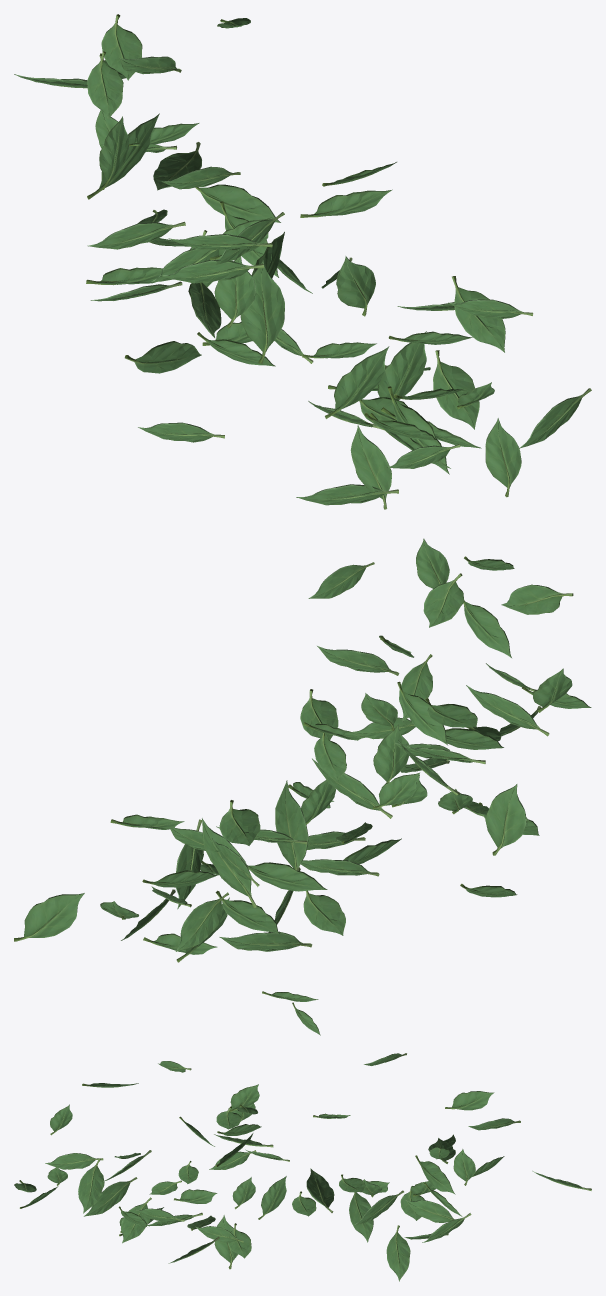
File: holy_canopy14_full.glb
The picture shows the model from 3 angles, top to bottom: view 1: azimuth 30°, elevation 25°; view 2: azimuth 150°, elevation 25°; view 3: azimuth 270°, elevation 25°; orthographic projection. The views are drawn at different scales.
Visible parts, largest first — view 1: holy_canopy14; view 2: holy_canopy14; view 3: holy_canopy14.
Part boxes in pixels (x1,y1,x2,y2): holy_canopy14: [14, 14, 591, 509]; holy_canopy14: [14, 538, 591, 962]; holy_canopy14: [14, 991, 591, 1281].
Size of the model in its own units: 9.1 by 11.54 by 25.66.
Materials: 1 (1 with a texture image).
